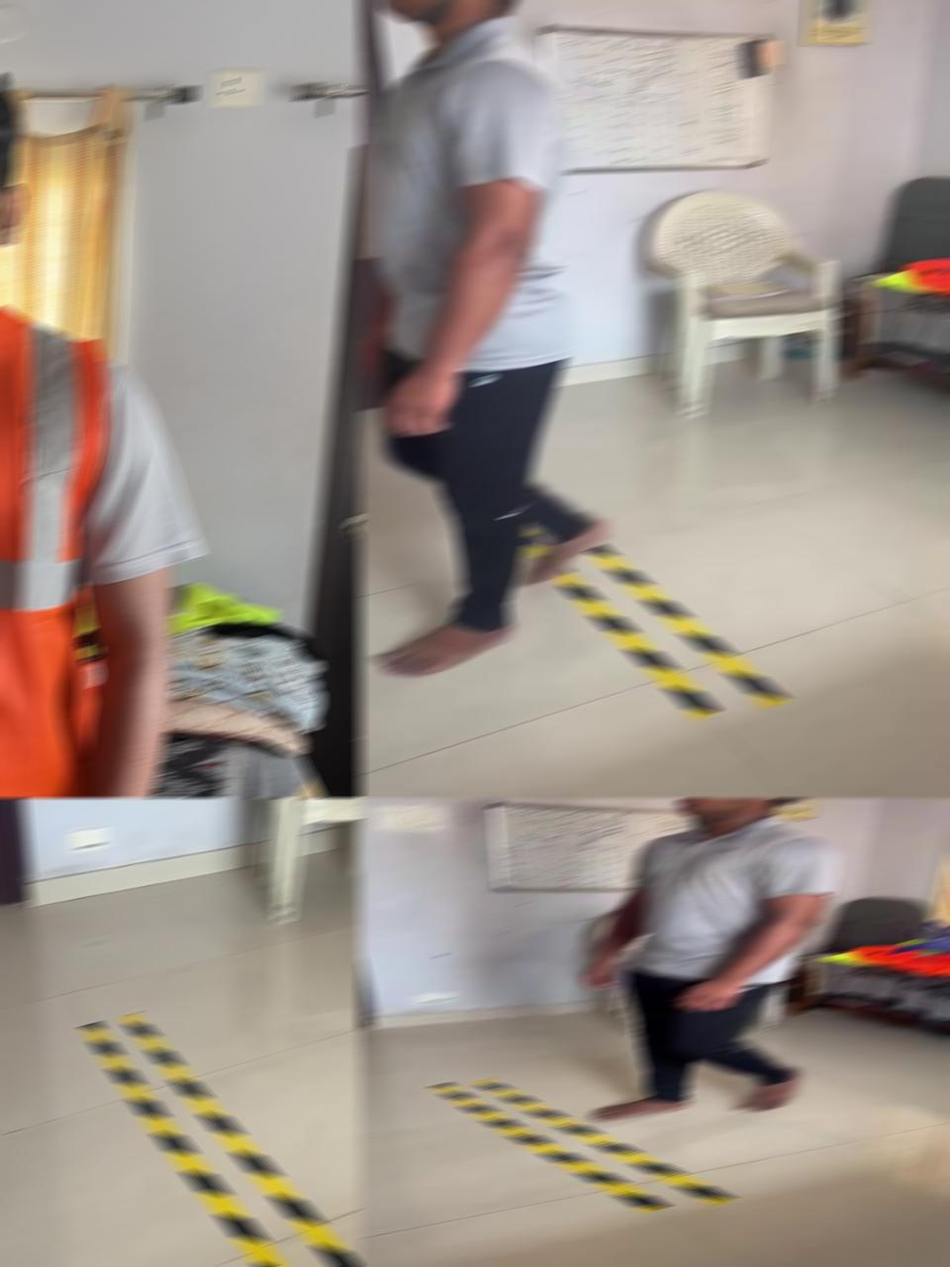BorderLine: (78, 1012, 363, 1267), (520, 532, 790, 719), (427, 1077, 741, 1211)
No_Helmet: (378, 0, 520, 29), (673, 798, 802, 817)
No_Vest: (367, 18, 579, 373), (620, 815, 840, 983)
Person: (363, 1, 616, 682), (0, 38, 206, 797), (575, 799, 839, 1122)
Vest: (0, 302, 109, 797)
